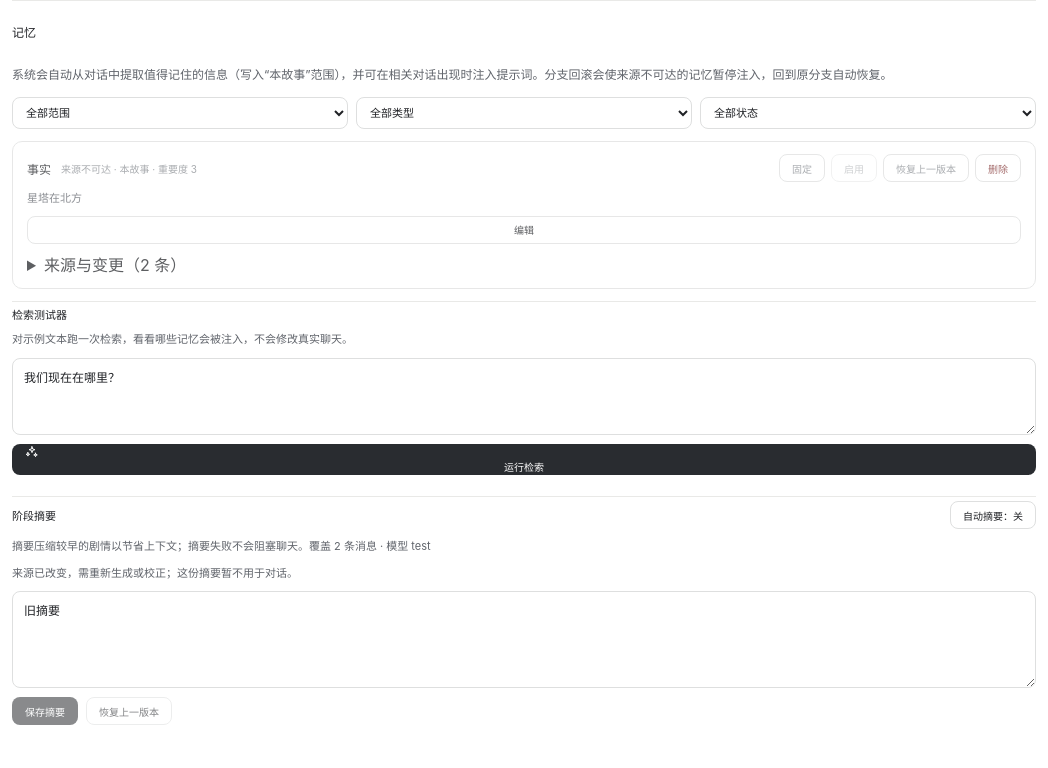
Test: reports deleted source stories and marks invalid summaries without hiding their editable text
The width and height of the screenshot is (1048, 768).
expect the text "星塔在北方" is shown: met, box top-left (27, 192), bottom-right (82, 205)
Click the heading "来源与变更（2 条）".
click(115, 265)  # box top-left (44, 255), bottom-right (186, 275)
(page scrolled)
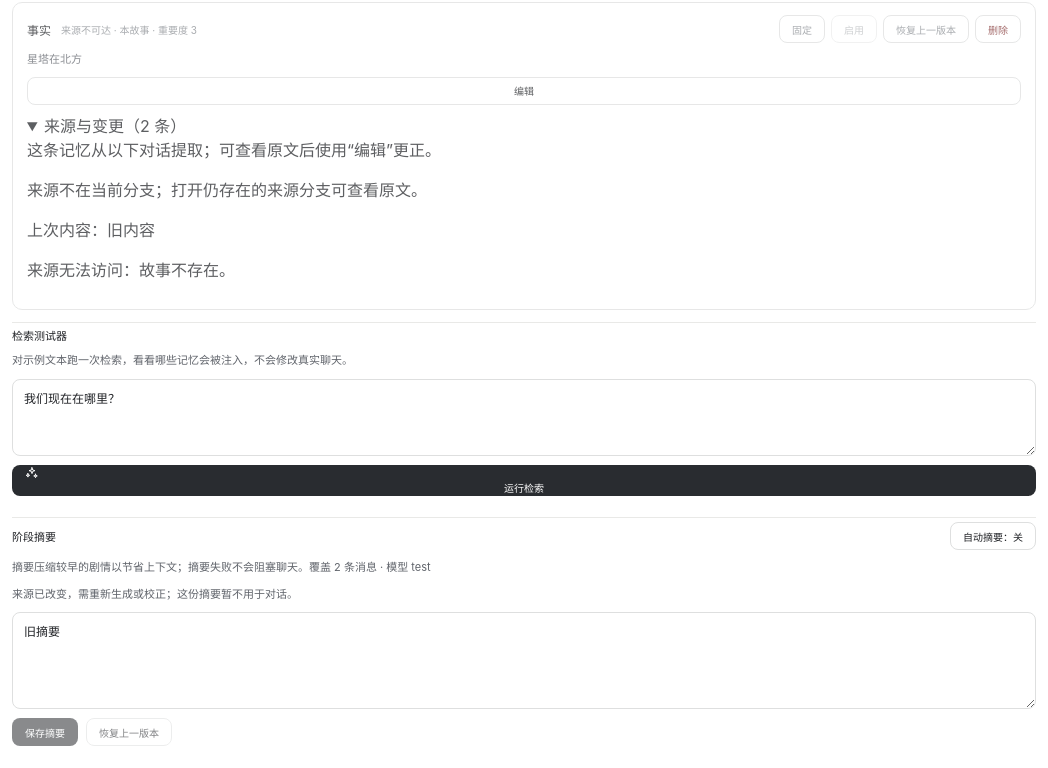
expect the text "来源已改变，需重新生成或校正；这份摘要暂不用于对话。" is shown: met, box top-left (12, 587), bottom-right (298, 601)
expect the text "来源无法访问：故事不存在。" is shown: met, box top-left (27, 260), bottom-right (235, 280)
